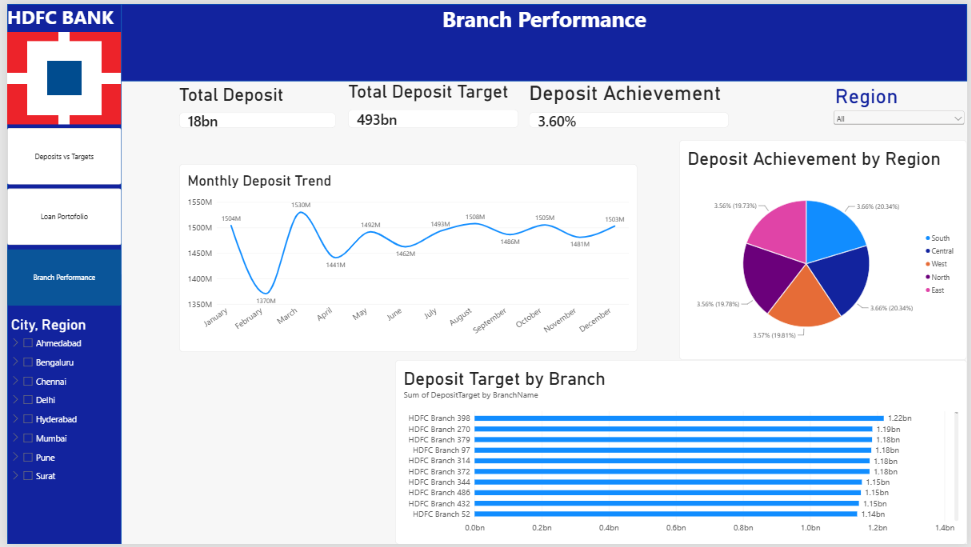

This screenshot's page, from the dashboard's own definition file:
{"tool":"powerbi","page":{"name":"Branch Performance","canvas":[1920,1080],"ordinal":2},"visuals":[{"type":"clusteredBarChart","title":"Deposit Target by Branch","fields":{"Category":["DimBranch.BranchName"],"Y":["Sum(BranchDepositTargets.DepositTarget)"]},"box":[776.3,711.2,1143.7,369.2],"z":0},{"type":"cardVisual","title":"Total Deposit","fields":{"Data":["Sum(FactTransactions.Amount)"]},"box":[343.8,159.3,313.1,88.7],"z":2000},{"type":"cardVisual","title":"Total Deposit Target","fields":{"Data":["Sum(BranchDepositTargets.DepositTarget)"]},"box":[682.2,153.8,340.2,94.1],"z":3000},{"type":"shape","box":[0,0,228.5,1080.6],"z":4000},{"type":"pageNavigator","box":[0,247.9,228.5,356.1],"z":5000},{"type":"textbox","box":[0,0,228,95.9],"z":6000},{"type":"shape","box":[228.1,0,1691.9,154.4],"z":7000},{"type":"textbox","box":[228,0,1692,77.8],"z":8000},{"type":"slicer","fields":{"Values":["DimBranch.Region"]},"box":[1648.6,159.3,271.4,88.7],"z":8001},{"type":"cardVisual","title":"Deposit Achievement","fields":{"Data":["BranchDepositTargets.Achievement %"]},"box":[1044.2,153.8,399.9,94.1],"z":8002},{"type":"pieChart","title":"Deposit Achievement by Region","fields":{"Category":["DimBranch.Region"],"Y":["BranchDepositTargets.Achievement %"]},"box":[1344.6,271.4,575.5,439.7],"z":8003},{"type":"image","box":[0,56.1,228,184.6],"z":8004},{"type":"slicer","fields":{"Values":["DimBranch.City","DimBranch.Region"]},"box":[0,623.3,228.3,456.7],"z":8005},{"type":"lineChart","title":"Monthly Deposit Trend","fields":{"Category":["DimDate.MonthName"],"Y":["Sum(FactTransactions.Amount)"]},"box":[344,320,916,376],"z":8006}]}

Visuals, with their boxes on the page's 1920x1080 design canvas (x1, y1, x2, y2). These are canvas units, not pixel positions in the 971x547 screenshot, which may show the page scaled, cropped or inside an application window:
"Deposit Target by Branch" clusteredBarChart: [x1=776, y1=711, x2=1920, y2=1080]
"Total Deposit" cardVisual: [x1=344, y1=159, x2=657, y2=248]
"Total Deposit Target" cardVisual: [x1=682, y1=154, x2=1022, y2=248]
shape: [x1=0, y1=0, x2=228, y2=1081]
pageNavigator: [x1=0, y1=248, x2=228, y2=604]
textbox: [x1=0, y1=0, x2=228, y2=96]
shape: [x1=228, y1=0, x2=1920, y2=154]
textbox: [x1=228, y1=0, x2=1920, y2=78]
slicer - DimBranch.Region: [x1=1649, y1=159, x2=1920, y2=248]
"Deposit Achievement" cardVisual: [x1=1044, y1=154, x2=1444, y2=248]
"Deposit Achievement by Region" pieChart: [x1=1345, y1=271, x2=1920, y2=711]
image: [x1=0, y1=56, x2=228, y2=241]
slicer - DimBranch.City x DimBranch.Region: [x1=0, y1=623, x2=228, y2=1080]
"Monthly Deposit Trend" lineChart: [x1=344, y1=320, x2=1260, y2=696]
